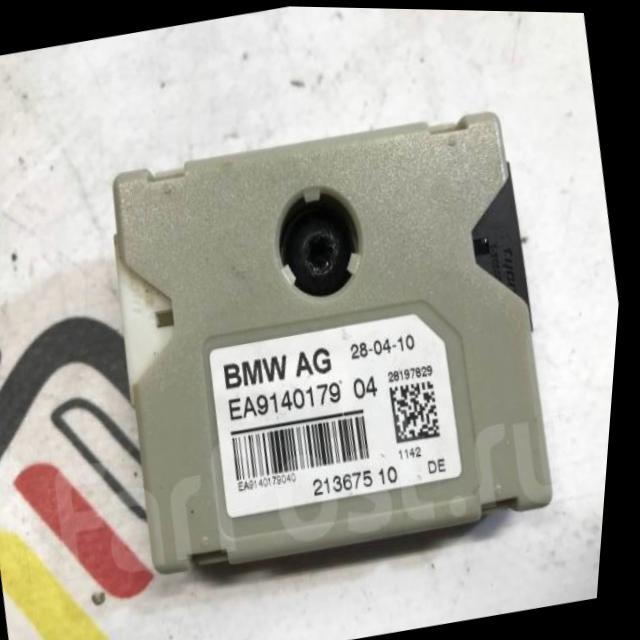datamatrix: (392, 378, 452, 445)
